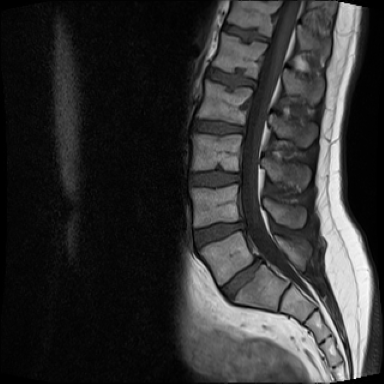Lumbar Disc Bulge (LDB): (213, 252, 265, 310), (191, 213, 250, 252)
Normal IVD: (200, 63, 260, 96), (216, 18, 274, 50), (185, 161, 243, 190), (185, 116, 248, 140)
